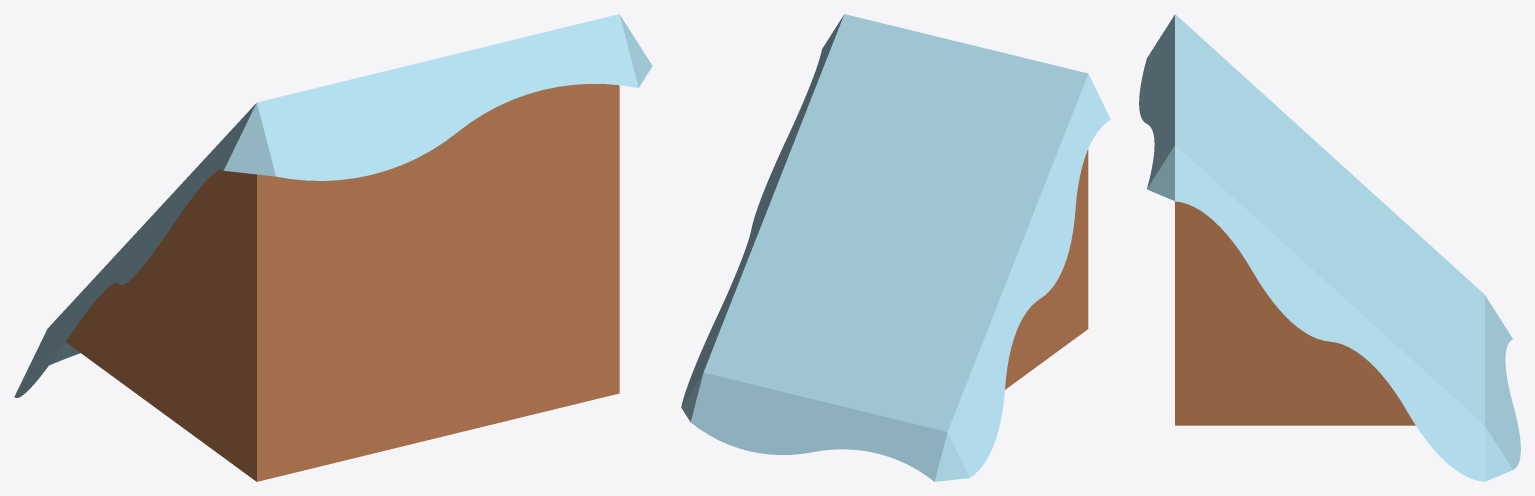
File: blockSnowSlope.dae
3 renders of one model, left to right at view 1: azimuth 30°, elevation 25°; view 2: azimuth 150°, elevation 25°; view 3: azimuth 270°, elevation 25°, orthographic. The views are drawn at different scales.
Parts seen in each view (by area): view 1: blockSnowSlope; view 2: blockSnowSlope; view 3: blockSnowSlope.
Part boxes in pixels (<box>): blockSnowSlope: <box>14,14,652,481</box>; blockSnowSlope: <box>681,14,1110,481</box>; blockSnowSlope: <box>1139,14,1520,481</box>.
Bounding box in the file's own units: 1.23 × 1.2 × 1.23.
